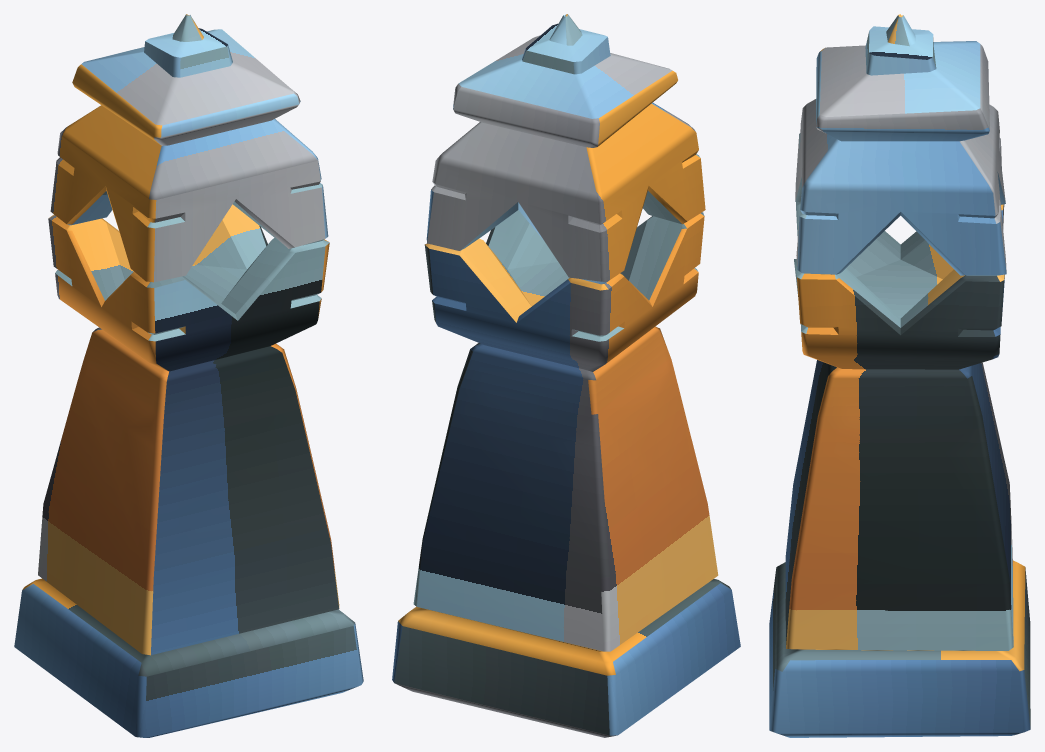
The model's file is CharSkyKid_Prop_LanternPost.glb.
3 renders of one model, left to right at view 1: azimuth 30°, elevation 25°; view 2: azimuth 150°, elevation 25°; view 3: azimuth 270°, elevation 25°, orthographic.
Parts seen in each view (by area): view 1: CharSkyKid_Prop_LanternPost; view 2: CharSkyKid_Prop_LanternPost; view 3: CharSkyKid_Prop_LanternPost.
Boxes of the visible parts, box(x1,y1,x2,y2) form: CharSkyKid_Prop_LanternPost: box(14, 14, 363, 737); CharSkyKid_Prop_LanternPost: box(392, 14, 740, 737); CharSkyKid_Prop_LanternPost: box(769, 14, 1030, 737).
Size of the model in its own units: 5.98 by 16.54 by 5.82.
1 material, 1 textured.
